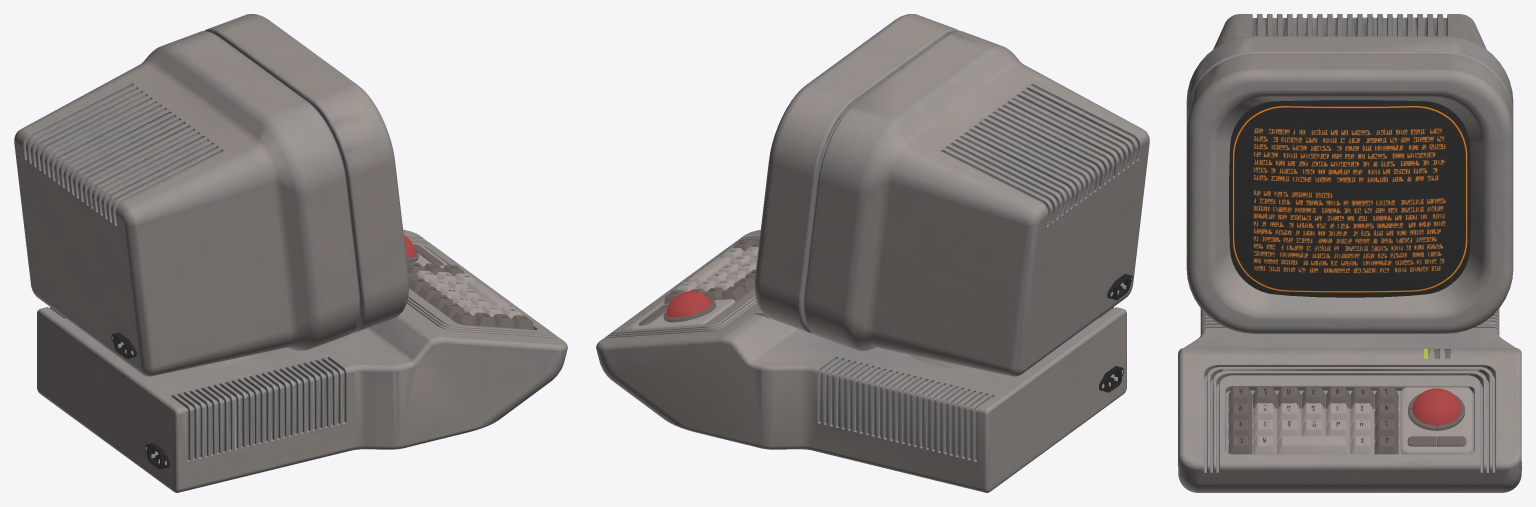
The model's file is retro_computer.glb.
3 renders of one model, left to right at view 1: azimuth 30°, elevation 25°; view 2: azimuth 150°, elevation 25°; view 3: azimuth 270°, elevation 25°, orthographic. The views are drawn at different scales.
Visible parts, largest first — view 1: Part2, Part1; view 2: Part2, Part1; view 3: Part2, Part1.
Boxes of the visible parts, left/top/right/bottom form: Part2: left=14, top=14, right=567, bottom=492; Part1: left=111, top=235, right=533, bottom=469; Part2: left=596, top=14, right=1149, bottom=492; Part1: left=630, top=239, right=1132, bottom=392; Part2: left=1178, top=14, right=1521, bottom=492; Part1: left=1228, top=100, right=1472, bottom=454.
Size of the model in its own units: 2 by 1.55 by 1.32.
2 materials, 2 textured.
